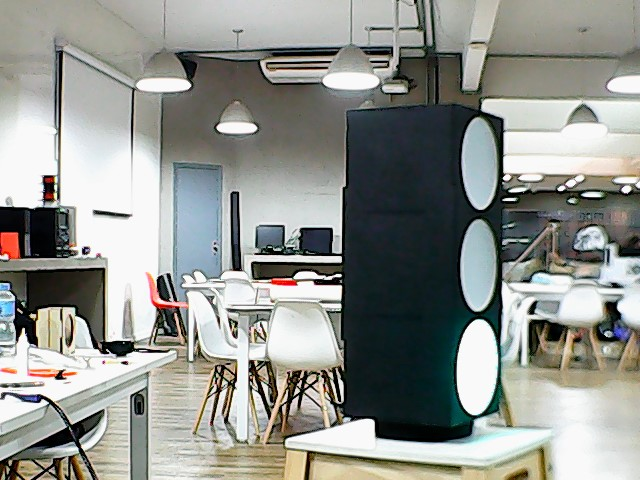verde: (335, 99, 507, 426)
